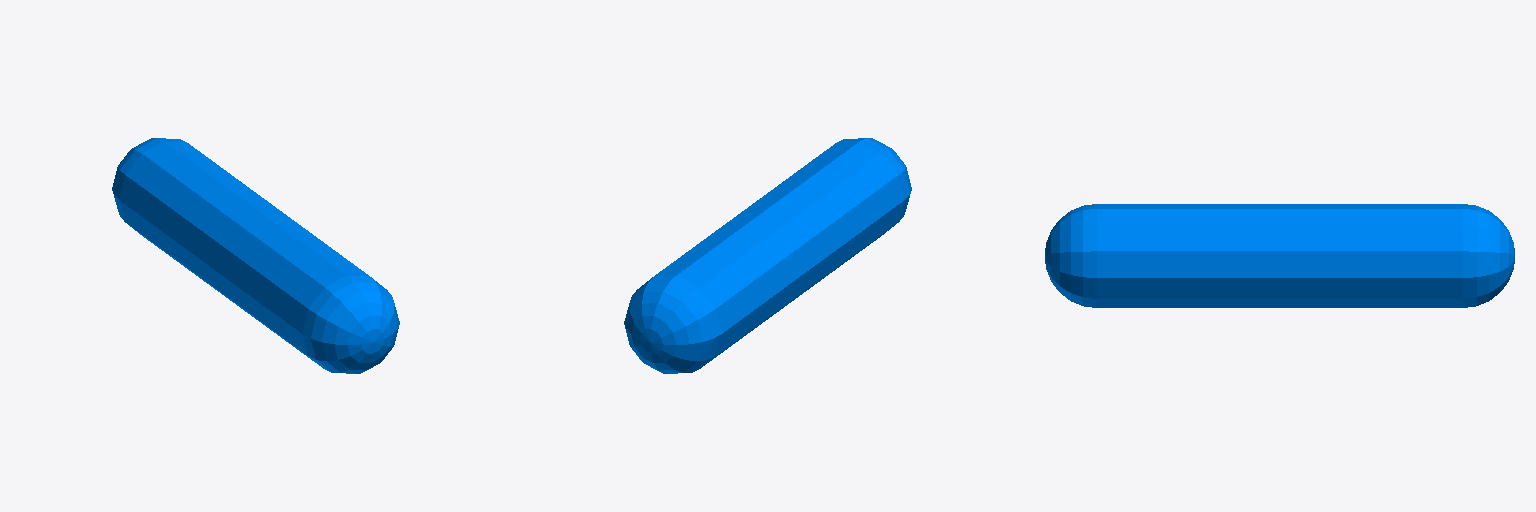
File: shot1.obj
3 renders of one model, left to right at view 1: azimuth 30°, elevation 25°; view 2: azimuth 150°, elevation 25°; view 3: azimuth 270°, elevation 25°, orthographic.
Visible parts, largest first — view 1: Capsule001; view 2: Capsule001; view 3: Capsule001.
Boxes of the visible parts, box(x1,y1,x2,y2) form: Capsule001: box(112, 138, 399, 373); Capsule001: box(624, 138, 911, 373); Capsule001: box(1045, 204, 1514, 307).
Bounding box in the file's own units: 20 × 20 × 90.